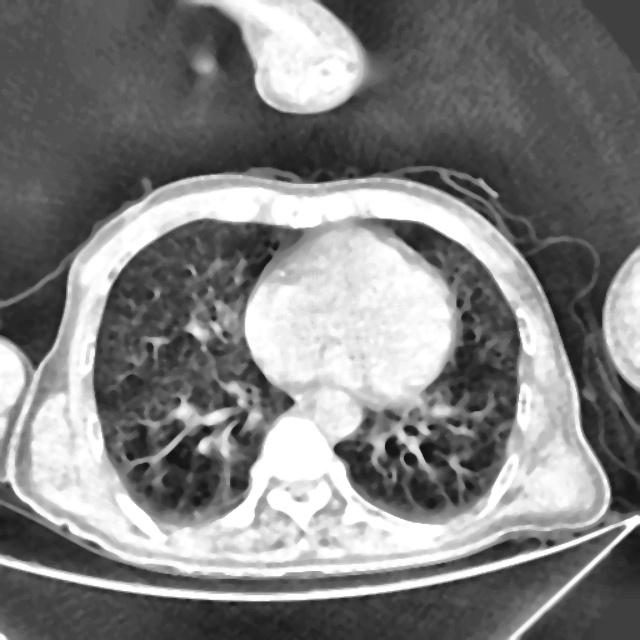covid: (1, 166, 613, 581)
